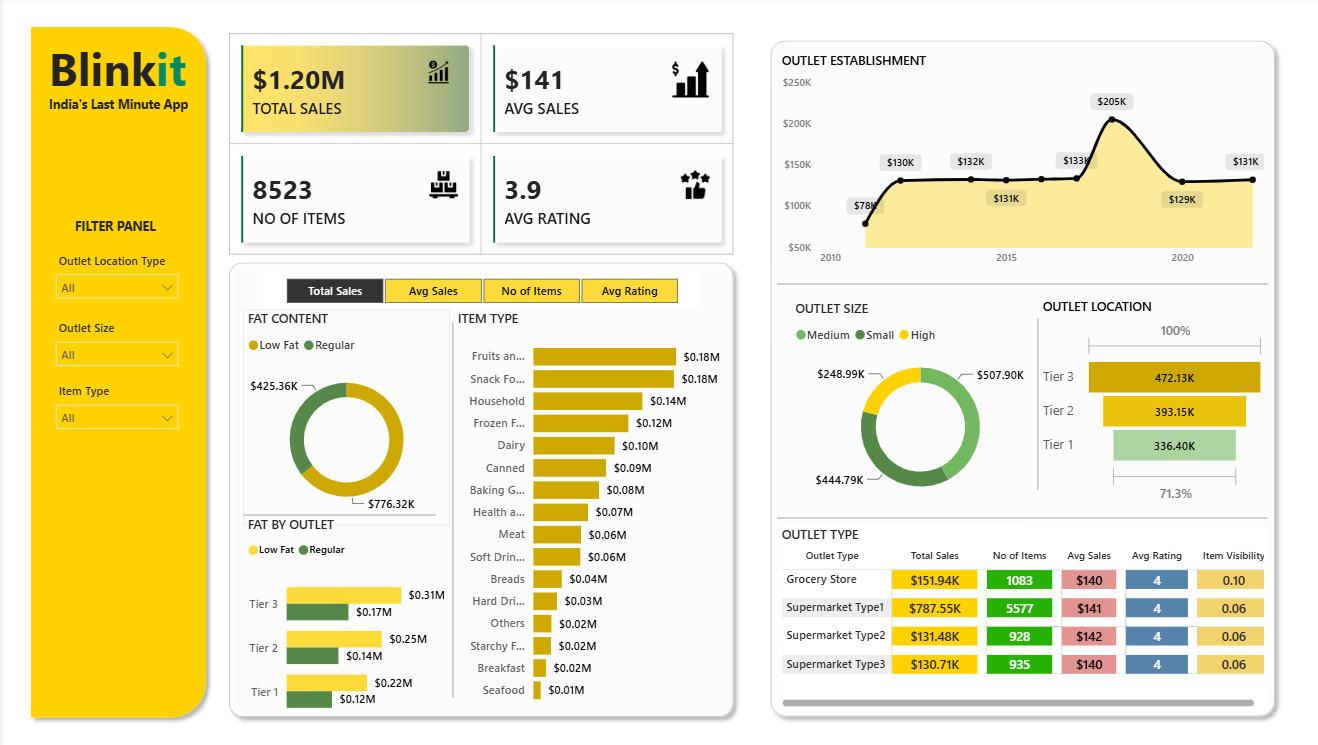

This screenshot's page, from the dashboard's own definition file:
{"tool":"powerbi","page":{"name":"Page 1","canvas":[1400,800],"ordinal":0},"visuals":[{"type":"shape","box":[20,23.6,203.6,750.9],"z":0},{"type":"textbox","box":[40,38.2,163.6,80],"z":1000},{"type":"textbox","box":[20,100,203.6,69.1],"z":2000},{"type":"cardVisual","fields":{"Data":["BlinkIT Grocery Data.Total Sales","BlinkIT Grocery Data.Avg Sales","BlinkIT Grocery Data.No of Items","BlinkIT Grocery Data.Avg Rating"]},"box":[222.7,23,570.9,270.4],"z":3000},{"type":"shape","box":[231.5,273.9,553.2,500.2],"z":3001},{"type":"donutChart","title":"FAT CONTENT","fields":{"Category":["BlinkIT Grocery Data.Item Fat Content"],"Y":["BlinkIT Grocery Data.Total Sales"]},"box":[254.5,332.3,219.2,229.8],"z":3002},{"type":"slicer","fields":{"Values":["Metrics.Metrics"]},"box":[275.7,293.4,464.8,38.9],"z":3003},{"type":"clusteredBarChart","title":"FAT BY OUTLET","fields":{"Y":["BlinkIT Grocery Data.Total Sales"],"Category":["BlinkIT Grocery Data.Outlet Location Type"],"Series":["BlinkIT Grocery Data.Item Fat Content"]},"box":[254.5,551.4,219.2,229.8],"z":3004},{"type":"shape","box":[254.5,542.6,205,15.9],"z":3005},{"type":"shape","box":[445.4,346.4,63.6,397.7],"z":3006},{"type":"barChart","title":"ITEM TYPE","fields":{"Category":["BlinkIT Grocery Data.Item Type"],"Y":["BlinkIT Grocery Data.Total Sales"]},"box":[477.2,332.3,288.1,427.7],"z":3007},{"type":"shape","box":[805.9,38.9,553.2,735.2],"z":3008},{"type":"lineChart","title":"OUTLET ESTABLISHMENT","fields":{"Y":["BlinkIT Grocery Data.Total Sales"],"Category":["BlinkIT Grocery Data.Outlet Establishment Year"]},"box":[821.8,58.3,521.4,235.1],"z":3009},{"type":"shape","box":[821.8,296.9,521.4,15.9],"z":3010},{"type":"donutChart","title":"OUTLET SIZE","fields":{"Y":["BlinkIT Grocery Data.Total Sales"],"Category":["BlinkIT Grocery Data.Outlet Size"]},"box":[836,321.7,275,225],"z":3011},{"type":"shape","box":[1083.4,342.9,28.3,182],"z":3012},{"type":"funnel","title":"OUTLET LOCATION","fields":{"Y":["Sum(BlinkIT Grocery Data.Sales)"],"Category":["BlinkIT Grocery Data.Outlet Location Type"]},"box":[1097.5,319.9,245.7,222.7],"z":3013},{"type":"shape","box":[821.8,546.1,521.4,15.9],"z":3014},{"type":"pivotTable","title":"OUTLET TYPE","fields":{"Rows":["BlinkIT Grocery Data.Outlet Type"],"Values":["BlinkIT Grocery Data.Total Sales","BlinkIT Grocery Data.No of Items","BlinkIT Grocery Data.Avg Sales","BlinkIT Grocery Data.Avg Rating","Avg(BlinkIT Grocery Data.Item Visibility)"]},"box":[821.8,562,521.4,197.9],"z":3015},{"type":"slicer","fields":{"Values":["BlinkIT Grocery Data.Outlet Location Type"]},"box":[46,266.9,150.2,60.1],"z":3016},{"type":"slicer","fields":{"Values":["BlinkIT Grocery Data.Outlet Size"]},"box":[46,339.3,150.2,60.1],"z":3017},{"type":"slicer","fields":{"Values":["BlinkIT Grocery Data.Item Type"]},"box":[46,406.5,150.2,58.3],"z":3018},{"type":"textbox","box":[40.6,229.8,155.5,37.1],"z":3019}]}

Visuals, with their boxes in screenshot pixels (x1, y1, x2, y2), scaled from the page's 1400x800 canvas onto the 1318x745 screenshot:
shape: 19, 22, 211, 721
textbox: 38, 36, 192, 110
textbox: 19, 93, 211, 157
cardVisual - BlinkIT Grocery Data.Total Sales x BlinkIT Grocery Data.Avg Sales: 210, 21, 747, 273
shape: 218, 255, 739, 721
"FAT CONTENT" donutChart: 240, 309, 446, 523
slicer - Metrics.Metrics: 260, 273, 697, 309
"FAT BY OUTLET" clusteredBarChart: 240, 513, 446, 727
shape: 240, 505, 433, 520
shape: 419, 323, 479, 693
"ITEM TYPE" barChart: 449, 309, 720, 708
shape: 759, 36, 1279, 721
"OUTLET ESTABLISHMENT" lineChart: 774, 54, 1265, 273
shape: 774, 276, 1265, 291
"OUTLET SIZE" donutChart: 787, 300, 1046, 509
shape: 1020, 319, 1047, 489
"OUTLET LOCATION" funnel: 1033, 298, 1265, 505
shape: 774, 509, 1265, 523
"OUTLET TYPE" pivotTable: 774, 523, 1265, 708
slicer - BlinkIT Grocery Data.Outlet Location Type: 43, 249, 185, 305
slicer - BlinkIT Grocery Data.Outlet Size: 43, 316, 185, 372
slicer - BlinkIT Grocery Data.Item Type: 43, 379, 185, 433
textbox: 38, 214, 185, 249
